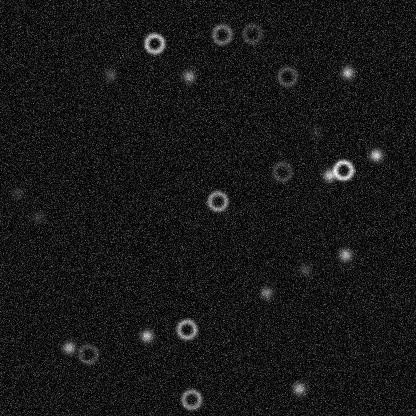Ring: (275, 64, 299, 88), (240, 21, 264, 45), (142, 31, 166, 55), (209, 22, 233, 46), (331, 157, 355, 181), (205, 189, 229, 213), (179, 387, 203, 411), (76, 341, 100, 365), (270, 159, 294, 183), (174, 317, 198, 341)
Spot: (102, 67, 118, 83), (258, 284, 274, 300), (367, 147, 383, 163), (291, 380, 307, 396), (307, 123, 323, 139), (60, 339, 76, 355), (321, 167, 337, 183), (337, 246, 353, 262), (297, 261, 313, 277), (138, 327, 154, 343), (30, 208, 46, 224), (339, 64, 355, 80), (180, 68, 196, 84), (9, 184, 25, 200)
